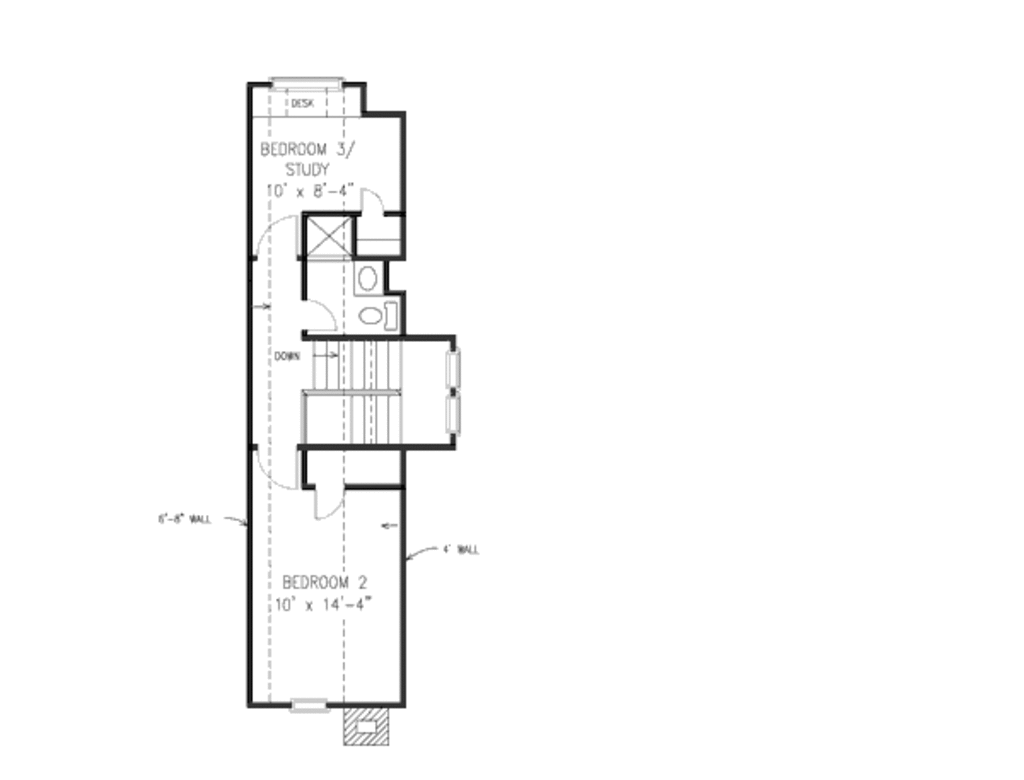door: (252, 444, 302, 491), (257, 209, 300, 259), (298, 300, 342, 332), (310, 487, 345, 526), (351, 181, 385, 213)
large_sink: (354, 295, 405, 333)
small_sink: (343, 255, 395, 297)
stairs: (298, 339, 422, 449)
window: (270, 72, 342, 93), (439, 396, 466, 437), (444, 347, 463, 396), (285, 691, 327, 713)
